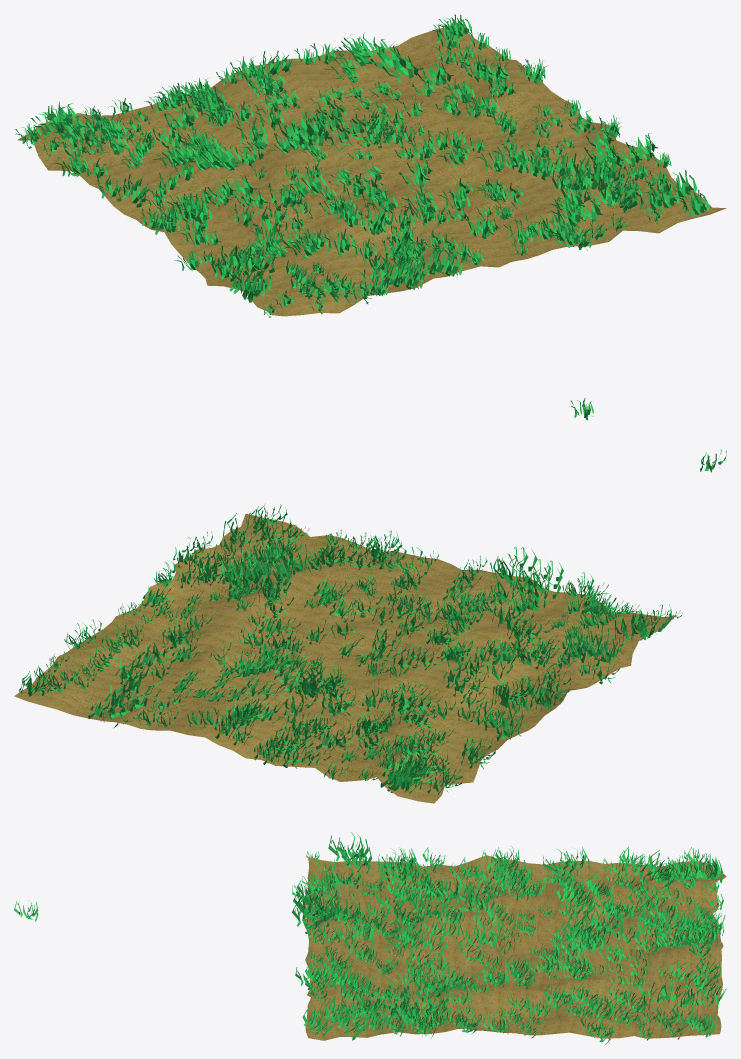
The model's file is Lawn.fbx.
3 renders of one model, top to bottom at view 1: azimuth 30°, elevation 25°; view 2: azimuth 150°, elevation 25°; view 3: azimuth 270°, elevation 25°, orthographic. The views are drawn at different scales.
Parts seen in each view (by area): view 1: Plane; view 2: Plane; view 3: Plane.
Part boxes in pixels (x1,y1,x2,y2): Plane: [17, 26, 726, 316]; Plane: [14, 514, 676, 803]; Plane: [305, 855, 726, 1040].
Bounding box in the file's own units: 885 × 96.96 × 1430.
2 materials, 1 textured.
